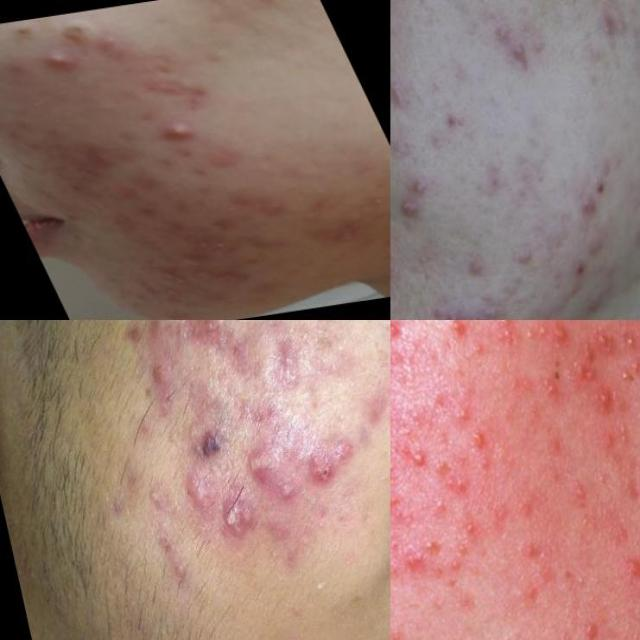acne_scars: (63, 143, 123, 174), (195, 147, 252, 178), (321, 221, 376, 249), (50, 23, 105, 51), (244, 197, 297, 222), (128, 197, 178, 221), (97, 180, 145, 204)
comedone: (198, 43, 242, 74), (424, 68, 450, 103)
papule: (138, 68, 217, 114), (591, 0, 640, 45), (439, 457, 483, 507), (482, 9, 524, 53), (398, 532, 430, 588), (577, 224, 617, 266), (390, 70, 418, 120), (569, 184, 603, 224), (512, 233, 542, 277), (404, 167, 438, 204), (459, 248, 492, 286), (441, 98, 472, 138), (615, 555, 640, 602), (442, 320, 476, 347), (577, 620, 598, 640), (390, 208, 398, 246)
pustule: (144, 115, 215, 153), (130, 476, 174, 530), (35, 46, 89, 80), (272, 466, 307, 516), (515, 320, 556, 359), (503, 36, 537, 76), (469, 422, 500, 457), (405, 442, 435, 478), (589, 382, 616, 422), (540, 367, 566, 408), (390, 241, 407, 282), (612, 367, 636, 396), (390, 320, 405, 346)
sebo-crystan-conglo: (203, 485, 265, 567), (303, 428, 372, 493), (182, 409, 240, 466), (427, 280, 505, 320), (244, 431, 291, 484), (150, 258, 200, 294), (186, 237, 244, 268), (202, 264, 264, 292), (396, 194, 428, 233), (390, 376, 399, 455)
